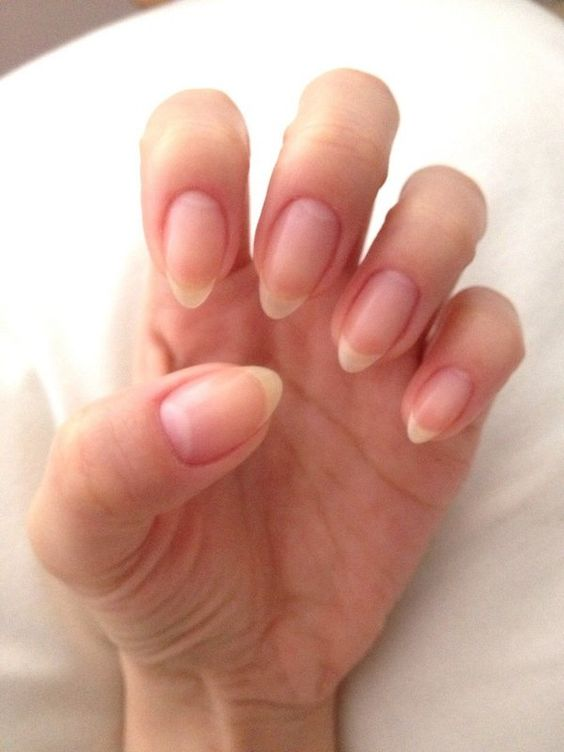nails: (143, 355, 291, 468), (250, 185, 344, 327), (328, 256, 419, 378), (151, 183, 230, 312), (404, 363, 477, 446)
